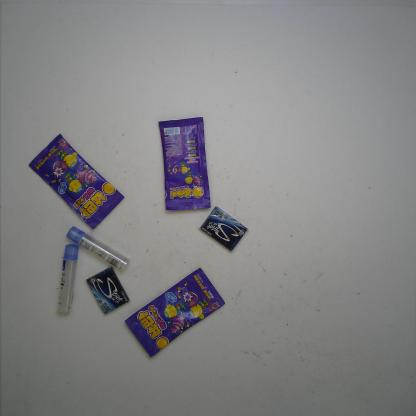Candy: (25, 130, 129, 232), (123, 266, 228, 361), (154, 112, 214, 213)
Gum: (197, 204, 250, 254), (84, 264, 131, 316)
Stationery: (64, 225, 132, 273), (54, 242, 81, 316)
